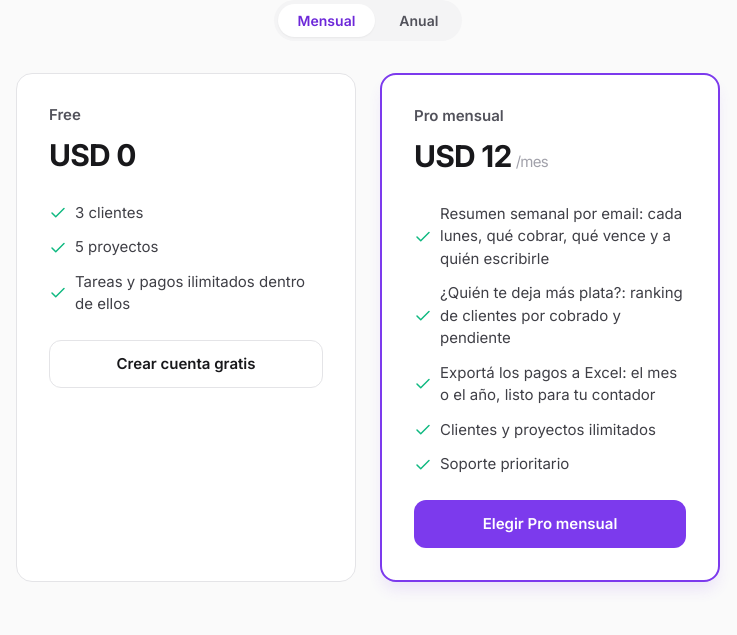
Test: PricingToggleCards › toggling to Anual switches the displayed Pro price to the catalog's yearly price (spec: toggles interval)
Click the button "Anual" at (419, 20), box top-left (379, 4), bottom-right (458, 37)
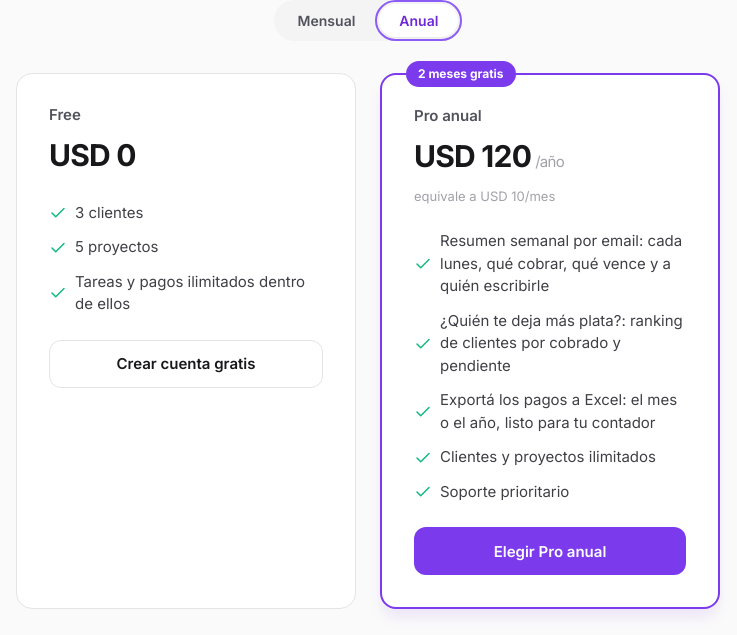
Expected: the text "USD 120" is shown, top-left (414, 138), bottom-right (531, 174)
